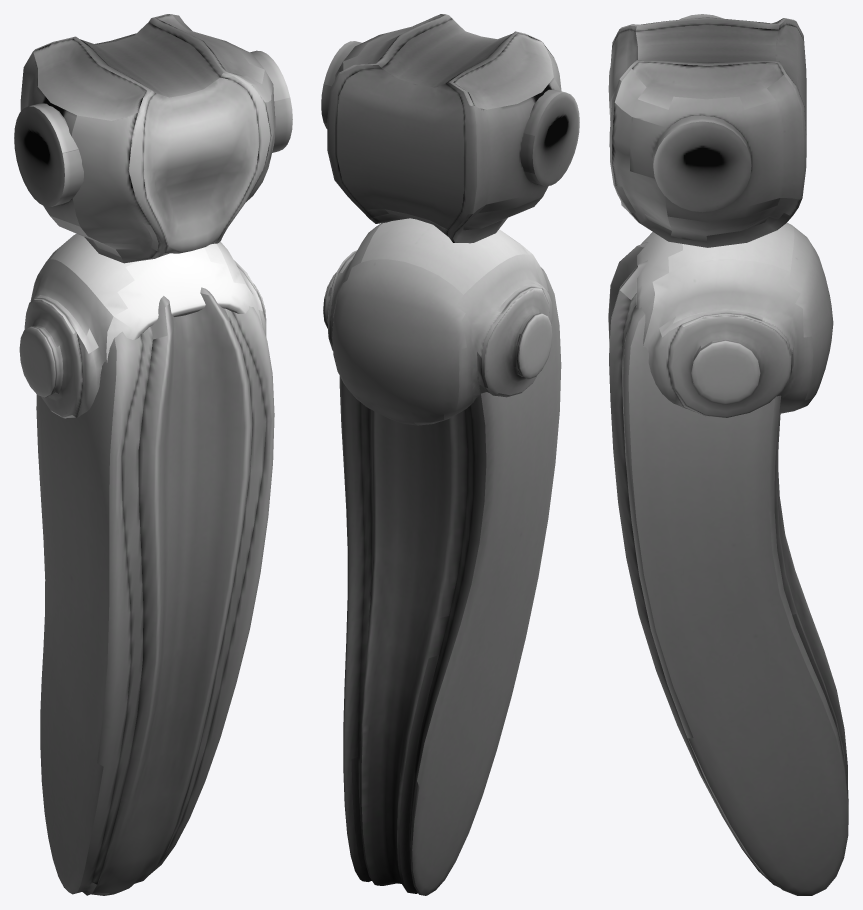
File: PodClassic.obj
3 renders of one model, left to right at view 1: azimuth 30°, elevation 25°; view 2: azimuth 150°, elevation 25°; view 3: azimuth 270°, elevation 25°, orthographic. The views are drawn at different scales.
Visible parts, largest first — view 1: Body_Untitled.003, BodyGlow_Untitled.007, Head_Untitled.001, HeadGlow_Untitled.008; view 2: Body_Untitled.003, Head_Untitled.001, BodyGlow_Untitled.007, HeadGlow_Untitled.008; view 3: Body_Untitled.003, Head_Untitled.001, BodyGlow_Untitled.007, HeadGlow_Untitled.008.
Boxes of the visible parts, x1=… form: Body_Untitled.003: x1=20, y1=14, x2=275, y2=895; BodyGlow_Untitled.007: x1=14, y1=14, x2=292, y2=895; Head_Untitled.001: x1=19, y1=233, x2=266, y2=417; HeadGlow_Untitled.008: x1=24, y1=260, x2=264, y2=418; Body_Untitled.003: x1=335, y1=14, x2=561, y2=895; Head_Untitled.001: x1=323, y1=218, x2=552, y2=425; BodyGlow_Untitled.007: x1=321, y1=14, x2=579, y2=879; HeadGlow_Untitled.008: x1=324, y1=250, x2=549, y2=397; Body_Untitled.003: x1=608, y1=17, x2=848, y2=895; Head_Untitled.001: x1=636, y1=222, x2=833, y2=413; BodyGlow_Untitled.007: x1=609, y1=14, x2=806, y2=887; HeadGlow_Untitled.008: x1=667, y1=313, x2=791, y2=417.
Size of the model in its own units: 0.3484 by 1.26 by 0.326.
2 materials, 2 textured.
